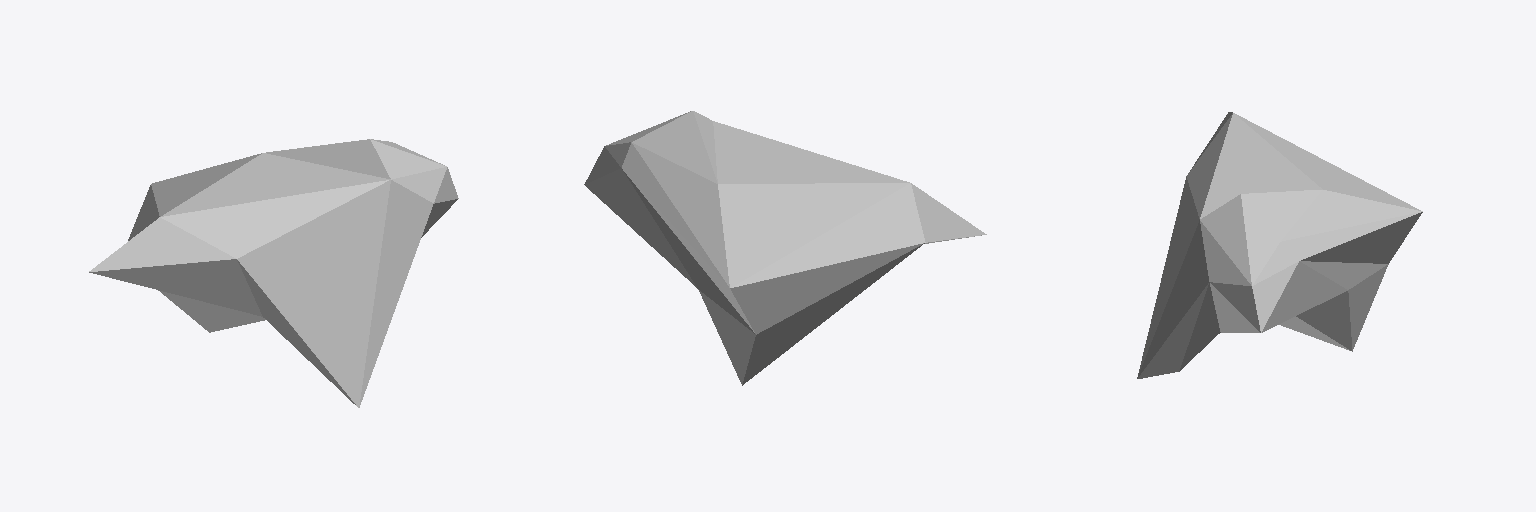
File: ast2.obj
3 views of the same model, side by side, from view 1: azimuth 30°, elevation 25°; view 2: azimuth 150°, elevation 25°; view 3: azimuth 270°, elevation 25° (orthographic).
Parts seen in each view (by area): view 1: asteroid.003_Icosphere.002; view 2: asteroid.003_Icosphere.002; view 3: asteroid.003_Icosphere.002.
Part boxes in pixels (x1,y1,x2,y2): asteroid.003_Icosphere.002: (89,139,458,407); asteroid.003_Icosphere.002: (584,111,986,385); asteroid.003_Icosphere.002: (1137,112,1422,378).
Bounding box in the file's own units: 6.86 × 3.67 × 4.4.